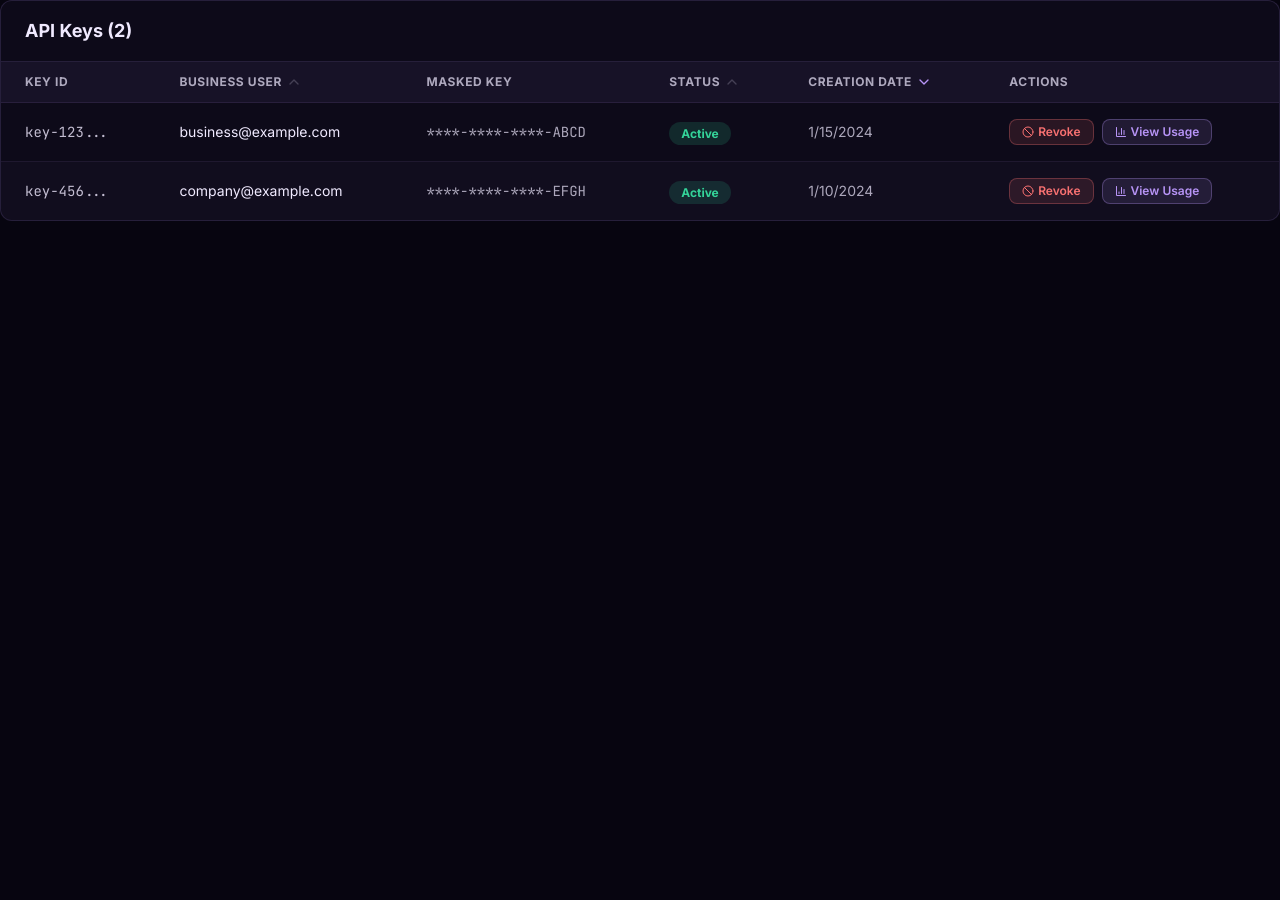
APIKeyTable - Revocation Integration › should close dialog when cancel is clicked
The image size is (1280, 900).
# Click revoke button
Step 1. Click the button "Revoke" in the row of "key-123" → (1051, 132), box [1009,119,1094,145]
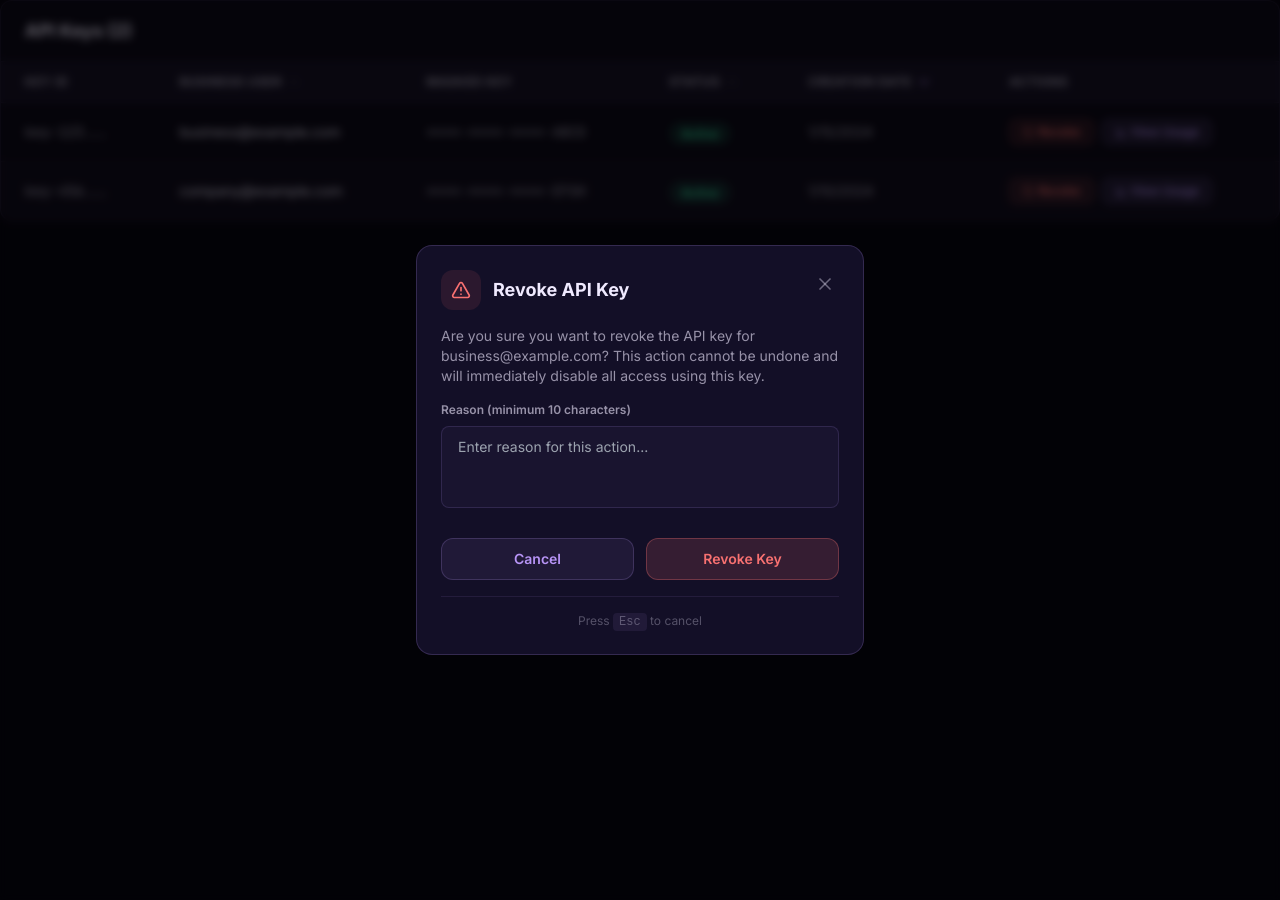
Now the heading "Revoke API Key" is shown, box [493,276,629,304]
# Click cancel
Step 2. Click the button "Cancel" → (538, 559), box [441,538,634,580]
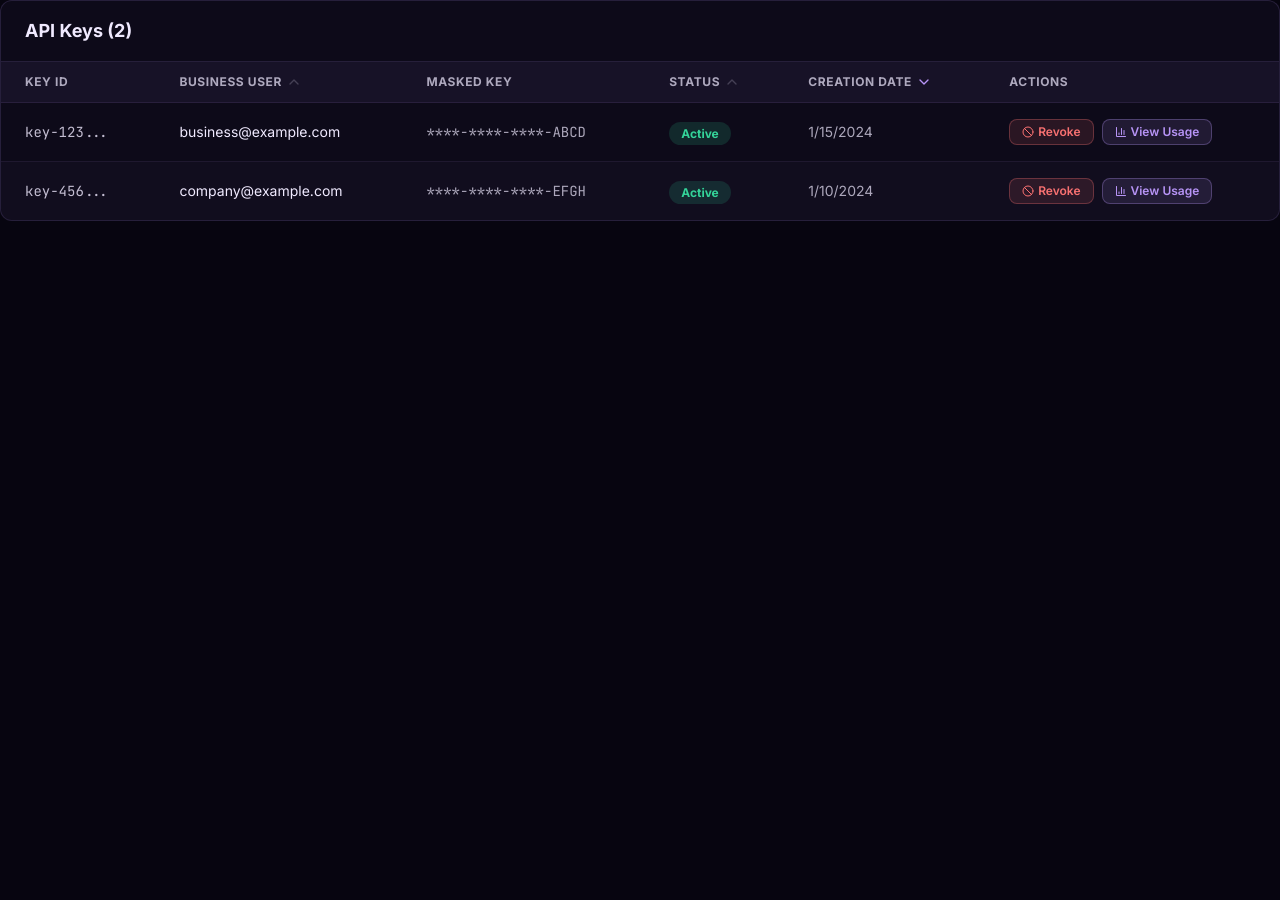
Now the heading "Revoke API Key" is gone
